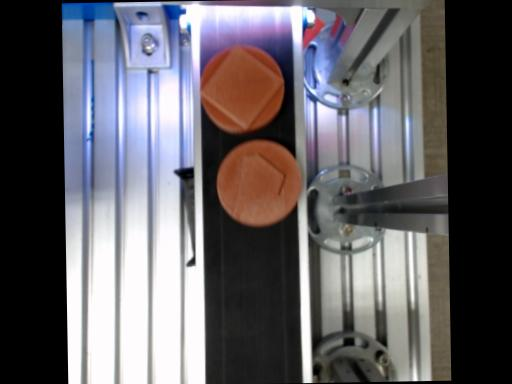Brown_Waper: (216, 140, 300, 227), (200, 46, 283, 133)
